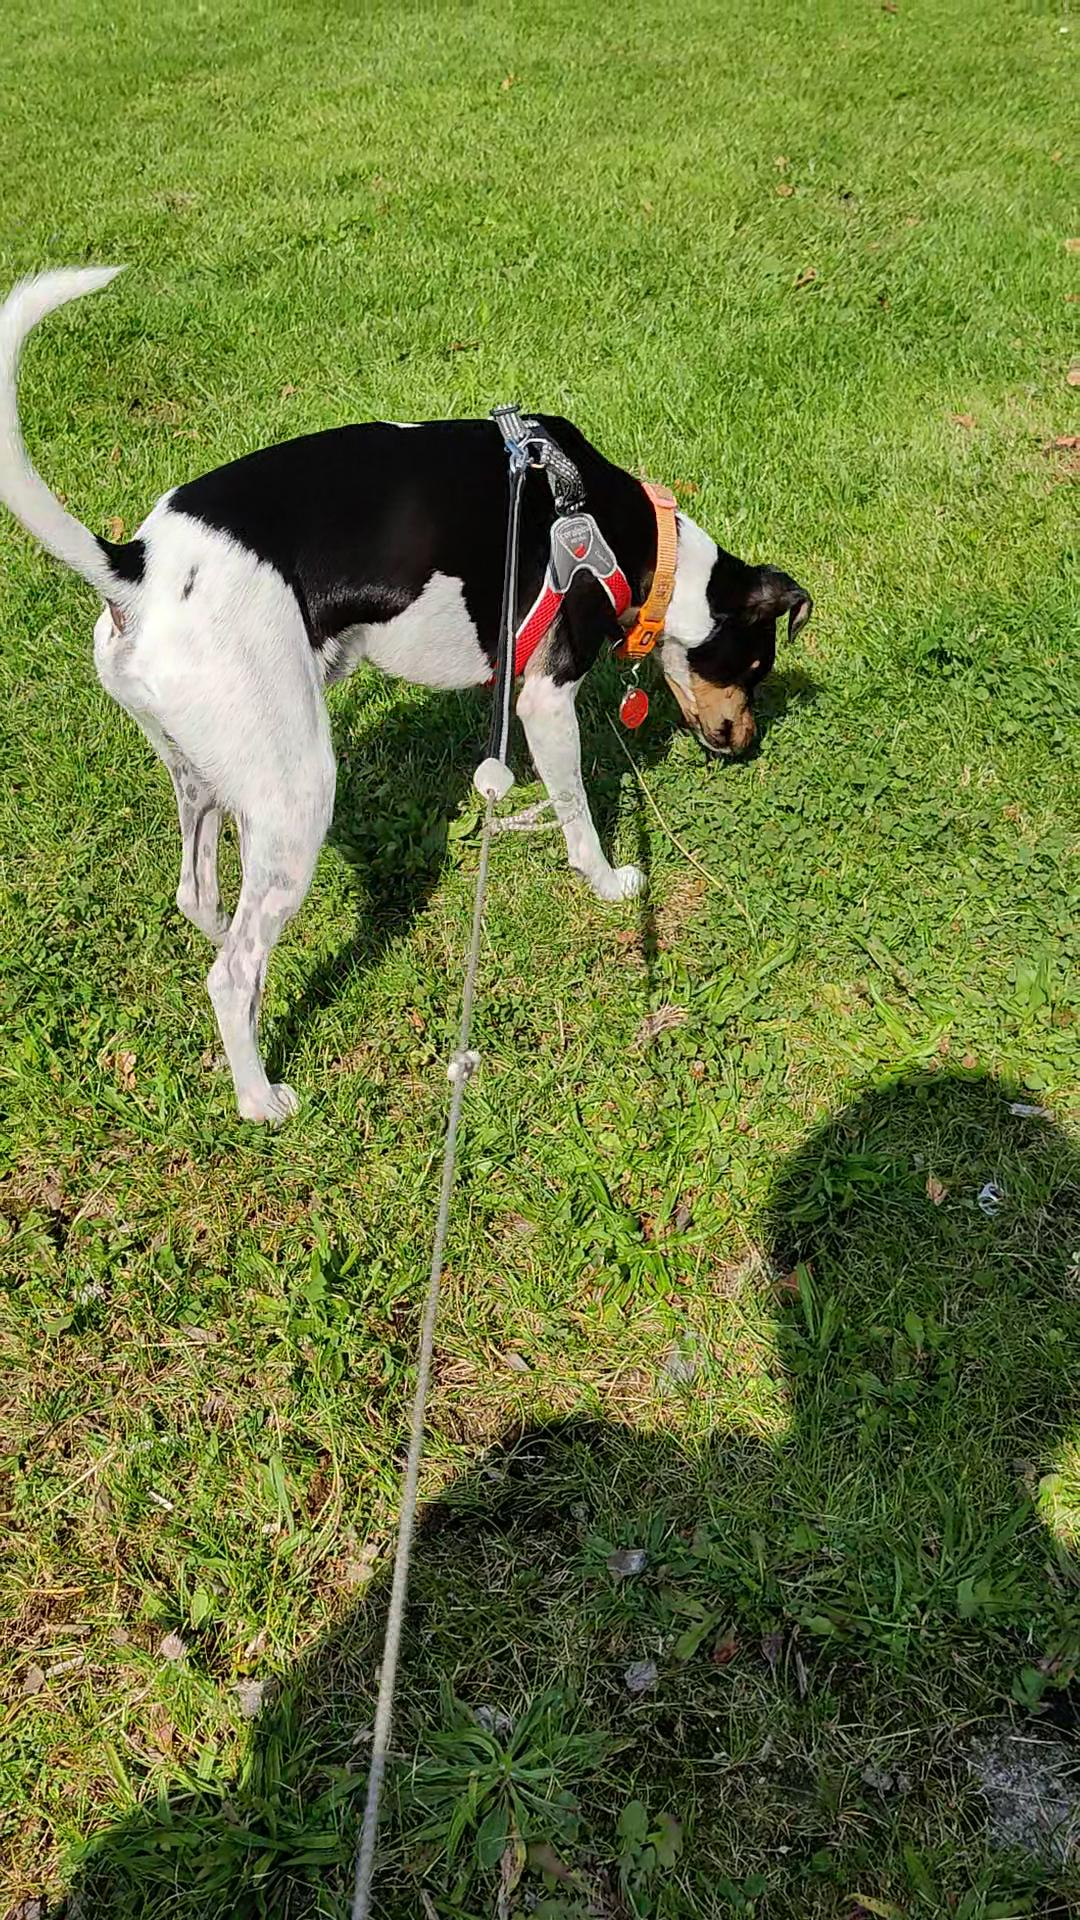Dog: (0, 243, 832, 1138)
